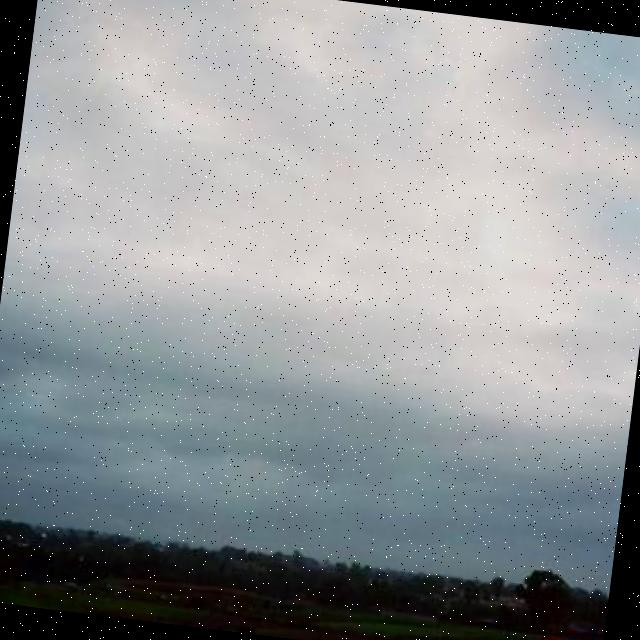Sc: (1, 35, 640, 513)
